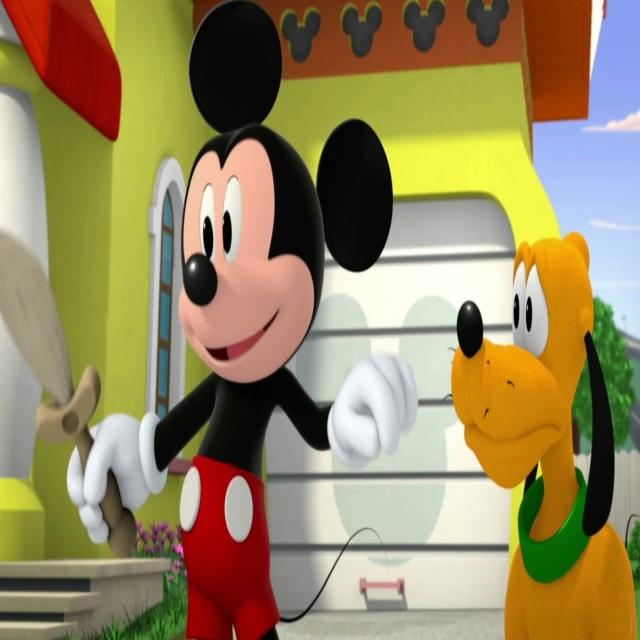mickey: (172, 5, 402, 393)
